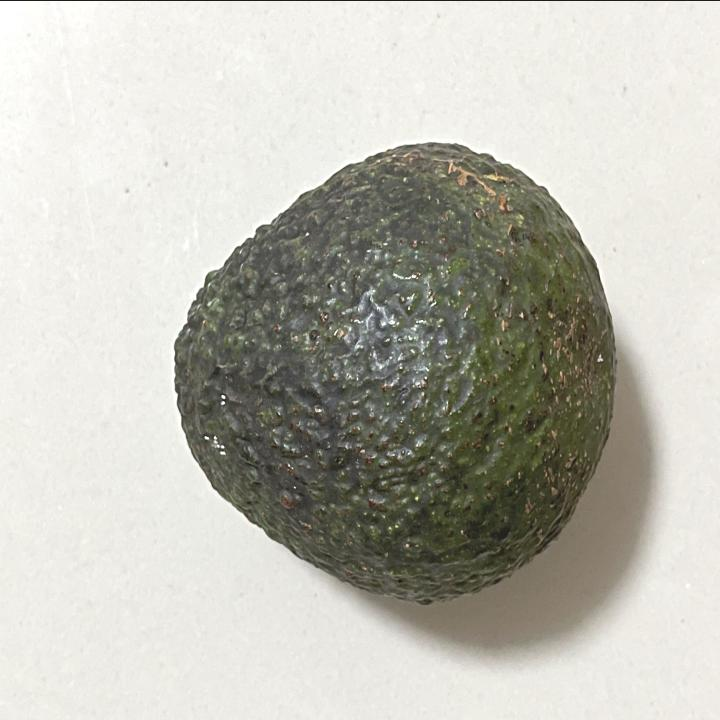Level1: (159, 130, 622, 616)
